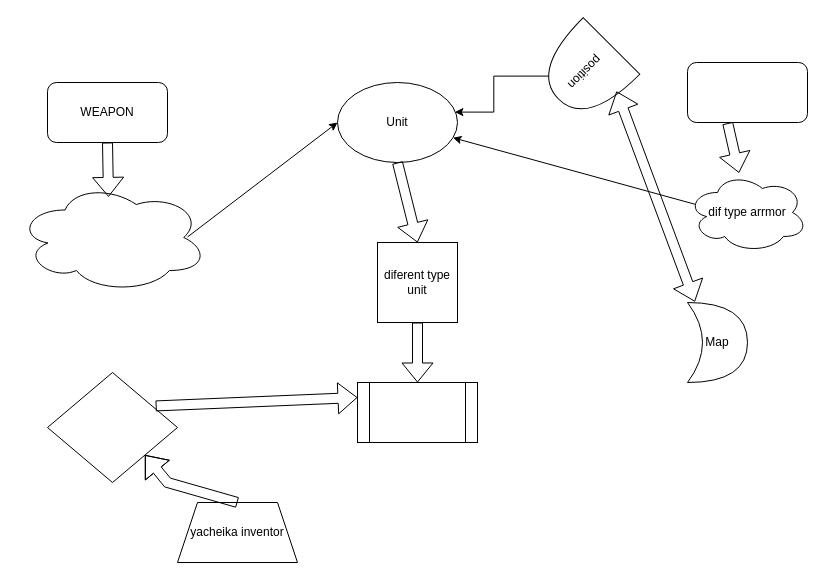
The diagram is 825 pixels wide and 581 high, and some of its shapes have lost their labels. Here are the shapes that lost their labels. From the top down, the centre of each, then its label:
At [747,92]: "Armor".
At [112,237]: "diferent tipe weapon".
At [112,427]: "Inventors arr[]".
At [417,412]: "Hero".
